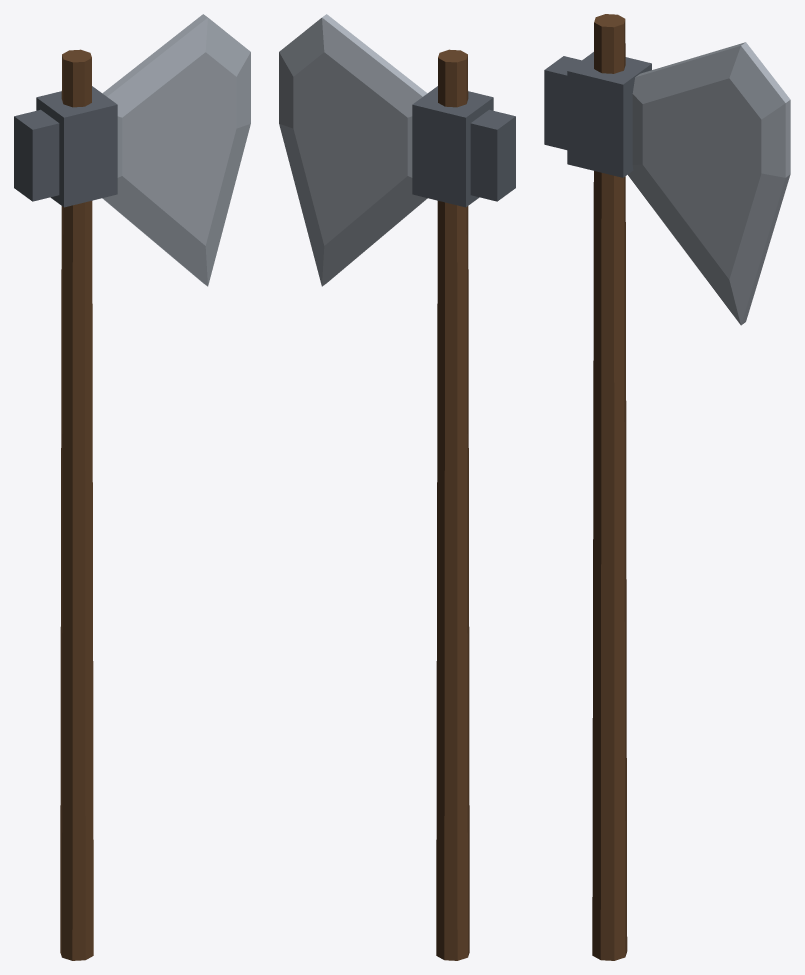
File: g-battleaxe.glb
The picture shows the model from 3 angles, left to right: view 1: azimuth 30°, elevation 25°; view 2: azimuth 150°, elevation 25°; view 3: azimuth 330°, elevation 25°; orthographic projection. The views are drawn at different scales.
Visible parts, largest first — view 1: g-battleaxe; view 2: g-battleaxe; view 3: g-battleaxe.
Boxes of the visible parts, x1,y1,x2,y2 form: g-battleaxe: (14, 14, 250, 960); g-battleaxe: (279, 14, 515, 960); g-battleaxe: (544, 14, 790, 960).
Size of the model in its own units: 0.21 by 0.808 by 0.045.
